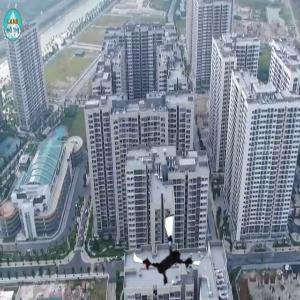drone: (131, 215, 207, 291)
